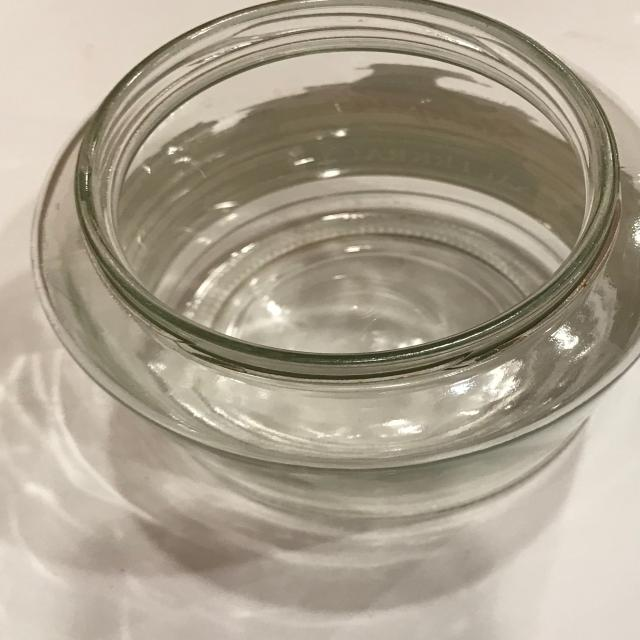glass: (29, 0, 640, 475)
